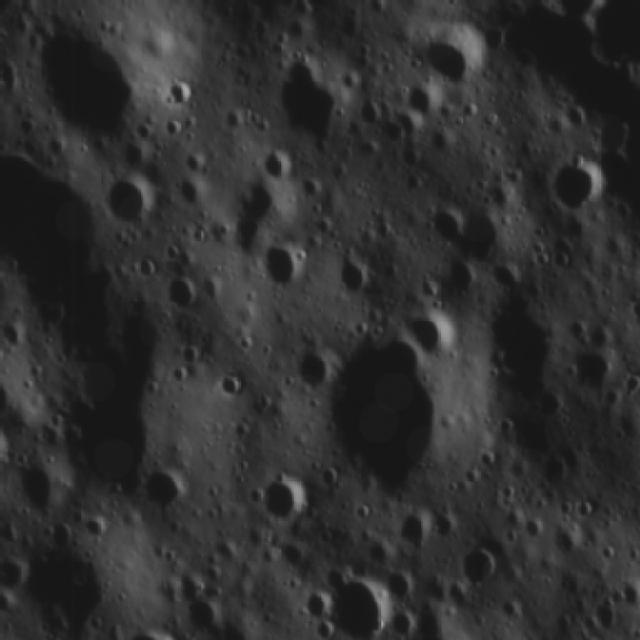crater: (331, 332, 482, 502), (26, 18, 160, 153), (14, 532, 129, 638), (256, 43, 361, 154), (300, 566, 392, 640), (419, 12, 487, 96), (9, 448, 74, 524), (97, 171, 163, 232), (259, 468, 315, 530), (544, 160, 608, 214), (251, 236, 309, 295), (564, 338, 622, 396), (399, 302, 455, 360), (280, 347, 338, 401), (136, 468, 195, 520), (332, 253, 380, 304), (452, 544, 505, 590), (160, 272, 206, 314), (206, 366, 249, 406), (383, 567, 423, 604), (386, 603, 422, 640)
